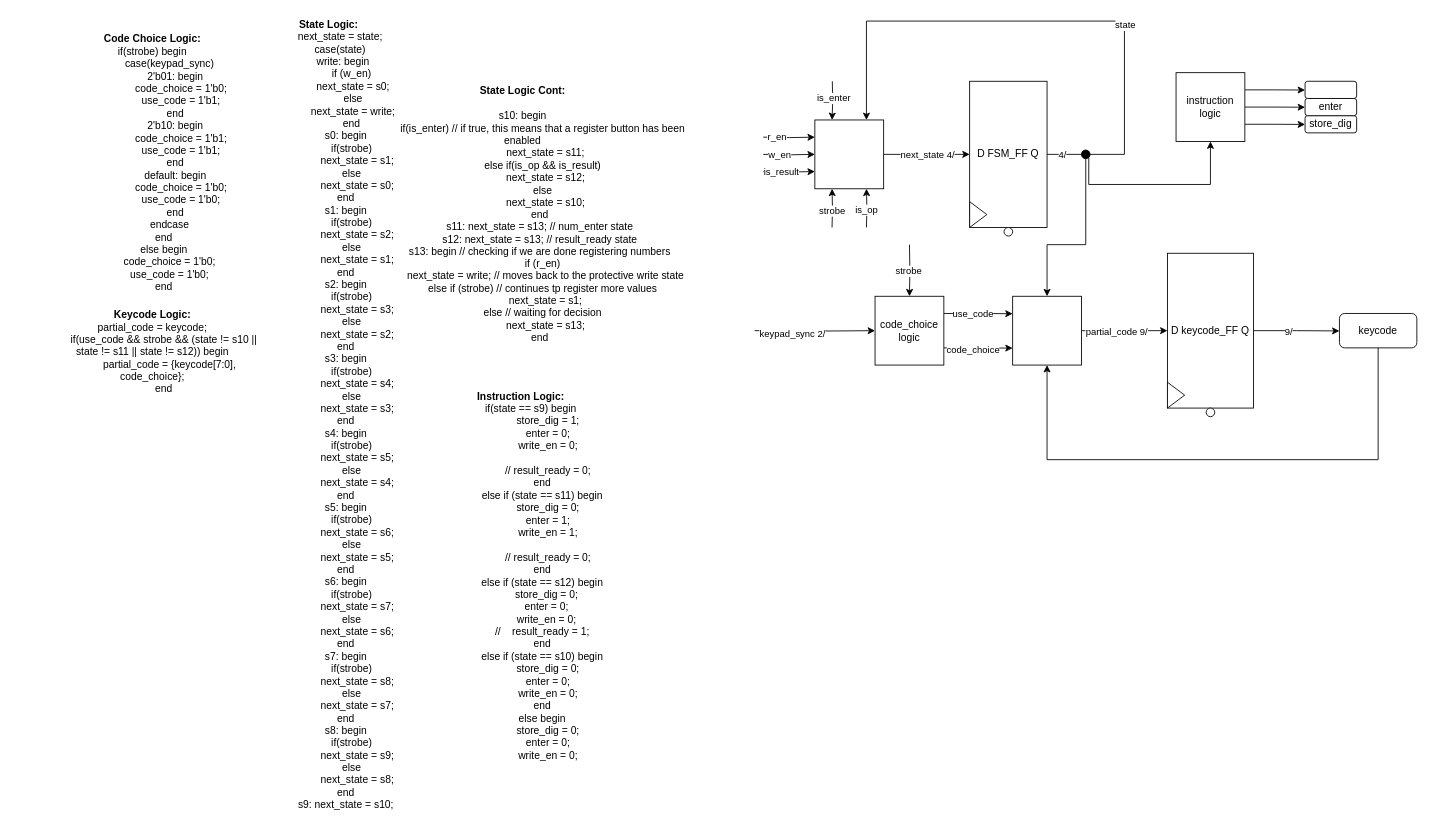
The diagram is 1432 pixels wide and 838 high, and some of its shapes have lost their labels. Each missing label, with the centre of its shape:
keycode logic: (x=1046, y=330)
state logic: (x=849, y=154)
write_en: (x=1330, y=89)
